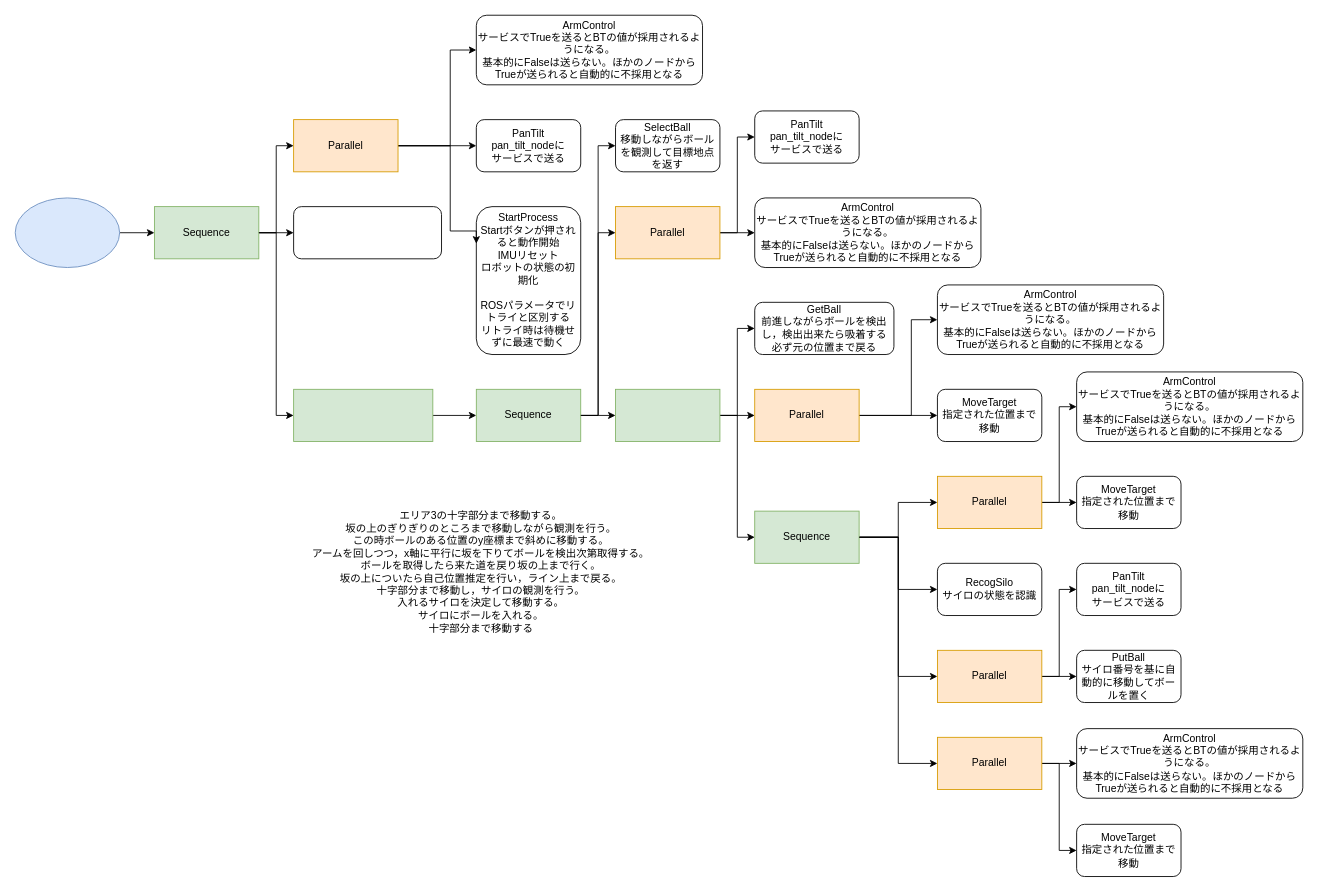
Image size: 1318x892. Some labels were removed from this diagram. Here are the shapes that lost their labels. From the top down, the centre of each, then its label:
At [67,232]: "Root".
At [367,232]: "LineTrace スタート地点からエリア３まで移動 こちらもリトライ時は経路変更".
At [363,415]: "KeepRunningUntilFailure 失敗するまで繰り返す".
At [667,415]: "IfThenElse".
